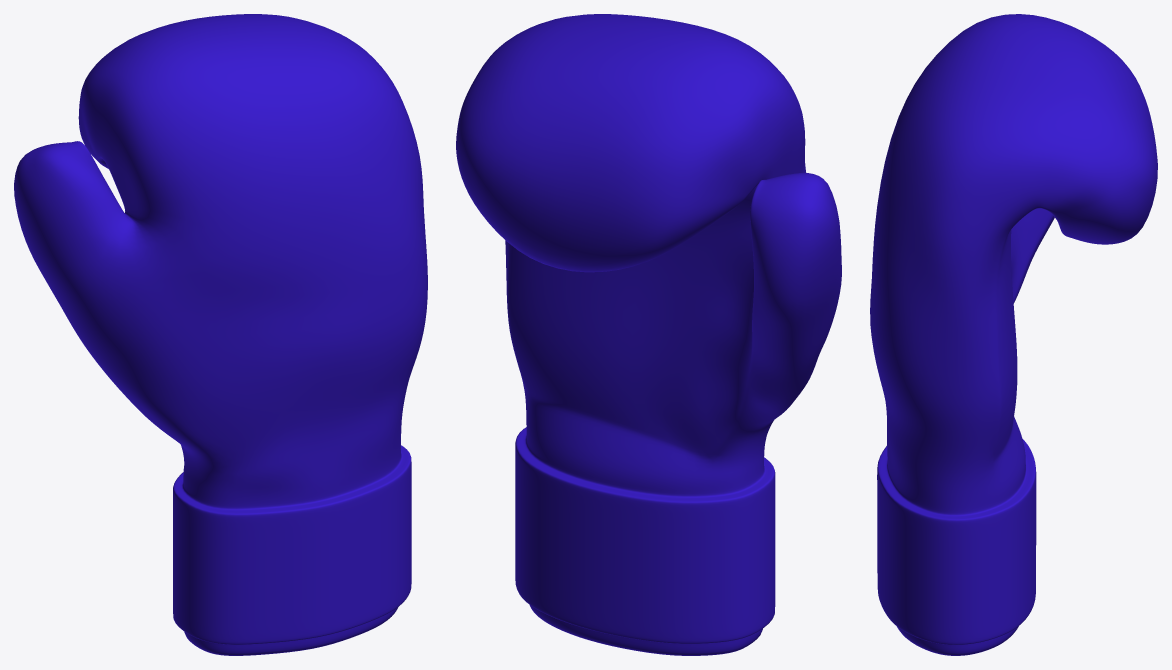
Rendered from luvaBox1.glb.
3 renders of one model, left to right at view 1: azimuth 30°, elevation 25°; view 2: azimuth 150°, elevation 25°; view 3: azimuth 270°, elevation 25°, orthographic. The views are drawn at different scales.
Visible parts, largest first — view 1: 10493_Leather_Boxing_Gloves_V1_L3; view 2: 10493_Leather_Boxing_Gloves_V1_L3; view 3: 10493_Leather_Boxing_Gloves_V1_L3.
Part boxes in pixels (left/top/right/bottom): 10493_Leather_Boxing_Gloves_V1_L3: left=14, top=14, right=427, bottom=655; 10493_Leather_Boxing_Gloves_V1_L3: left=456, top=14, right=841, bottom=655; 10493_Leather_Boxing_Gloves_V1_L3: left=870, top=14, right=1157, bottom=655.
Size of the model in its own units: 0.2179 by 0.3453 by 0.1638.
